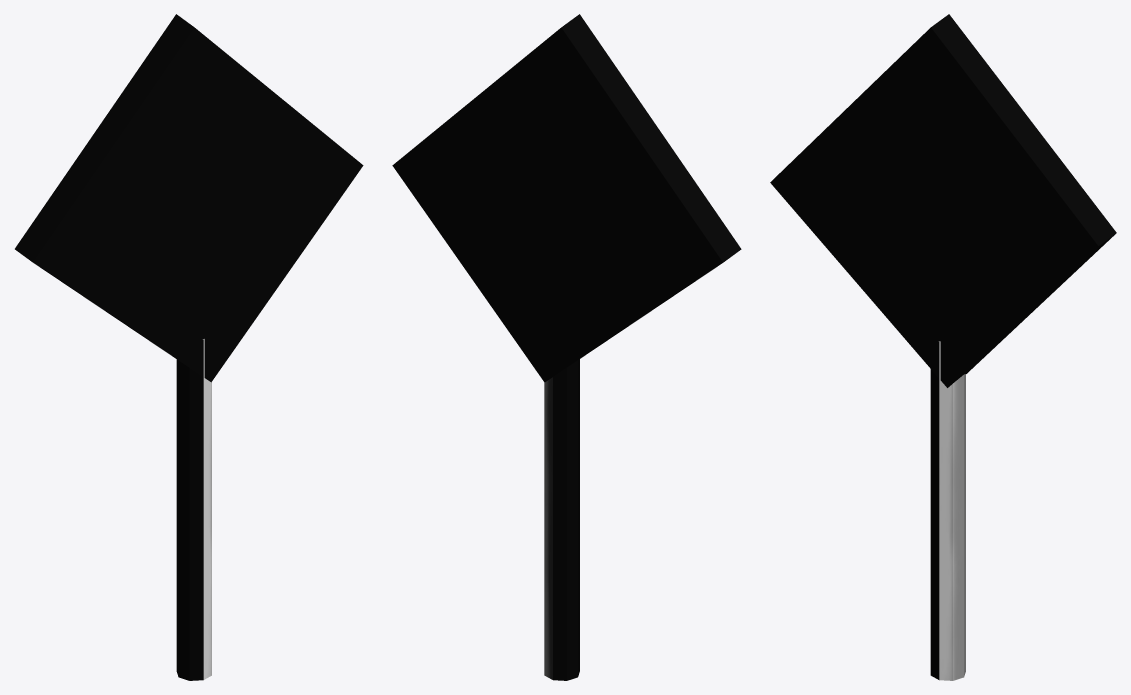
File: cautionsign.fbx
3 views of the same model, side by side, from view 1: azimuth 30°, elevation 25°; view 2: azimuth 150°, elevation 25°; view 3: azimuth 330°, elevation 25° (orthographic).
Parts seen in each view (by area): view 1: Col, Sign_post; view 2: Col, Sign_post; view 3: Col, Sign_post.
Part boxes in pixels (x1,y1,x2,y2): Col: (15,14,363,680); Sign_post: (203,339,211,679); Col: (392,14,741,680); Sign_post: (544,377,552,679); Col: (770,14,1116,679); Sign_post: (939,341,965,680).
Size of the model in its own units: 1.04 by 1.97 by 0.1015.
Materials: 3 (3 with a texture image).
